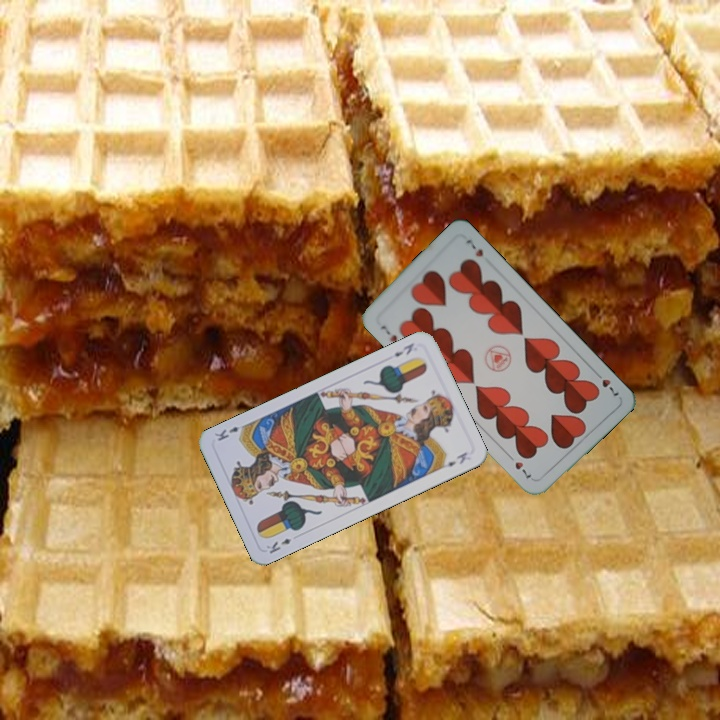EK: (262, 534, 294, 556), (390, 339, 417, 359)
H7: (590, 367, 622, 399), (376, 321, 400, 344)
